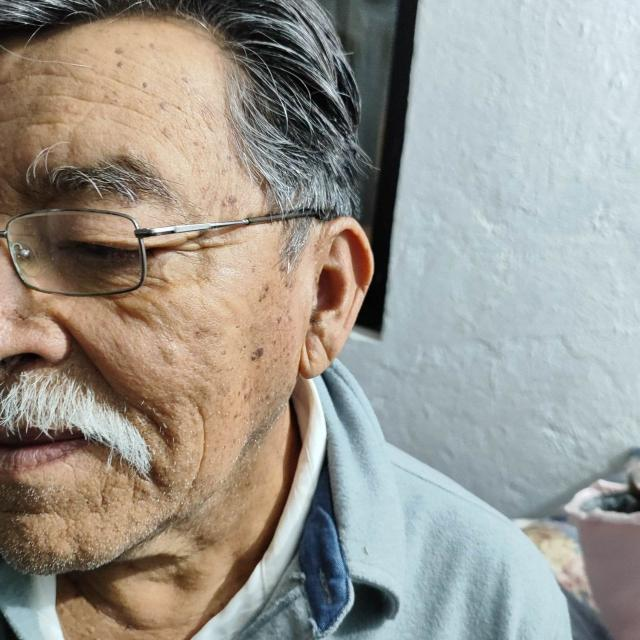ear: (299, 219, 371, 379)
